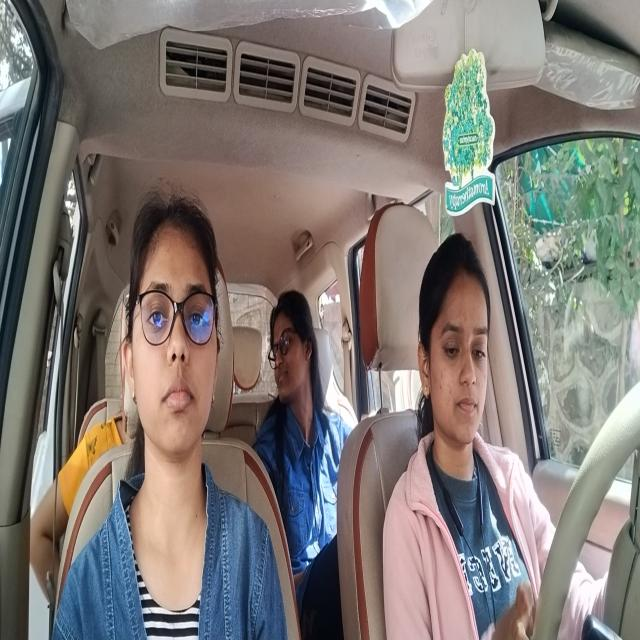person: (129, 197, 218, 481), (417, 226, 494, 453), (269, 291, 316, 407)
